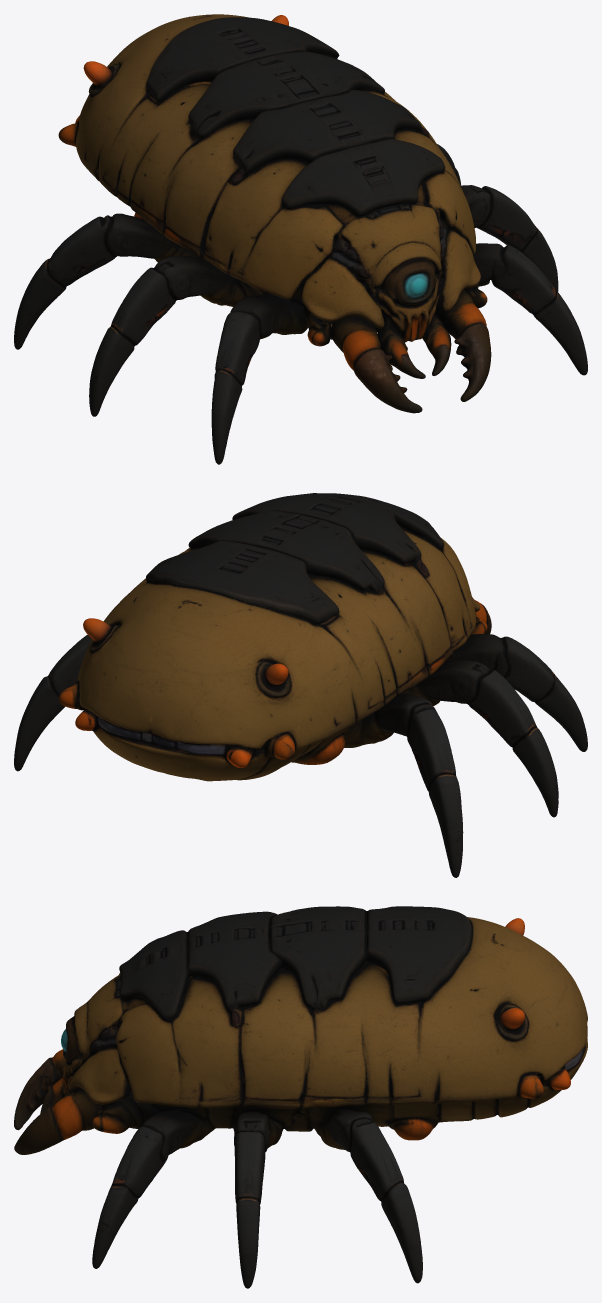
The model's file is SM_Unit_RegolithMite.glb.
3 renders of one model, top to bottom at view 1: azimuth 30°, elevation 25°; view 2: azimuth 150°, elevation 25°; view 3: azimuth 270°, elevation 25°, orthographic. The views are drawn at different scales.
Visible parts, largest first — view 1: world; view 2: world; view 3: world.
Boxes of the visible parts, x1,y1,x2,y2 form: world: [14, 14, 587, 464]; world: [14, 493, 587, 877]; world: [14, 906, 587, 1288].
Bounding box in the file's own units: 0.9168 × 0.4943 × 1.
Materials: 1 (1 with a texture image).
